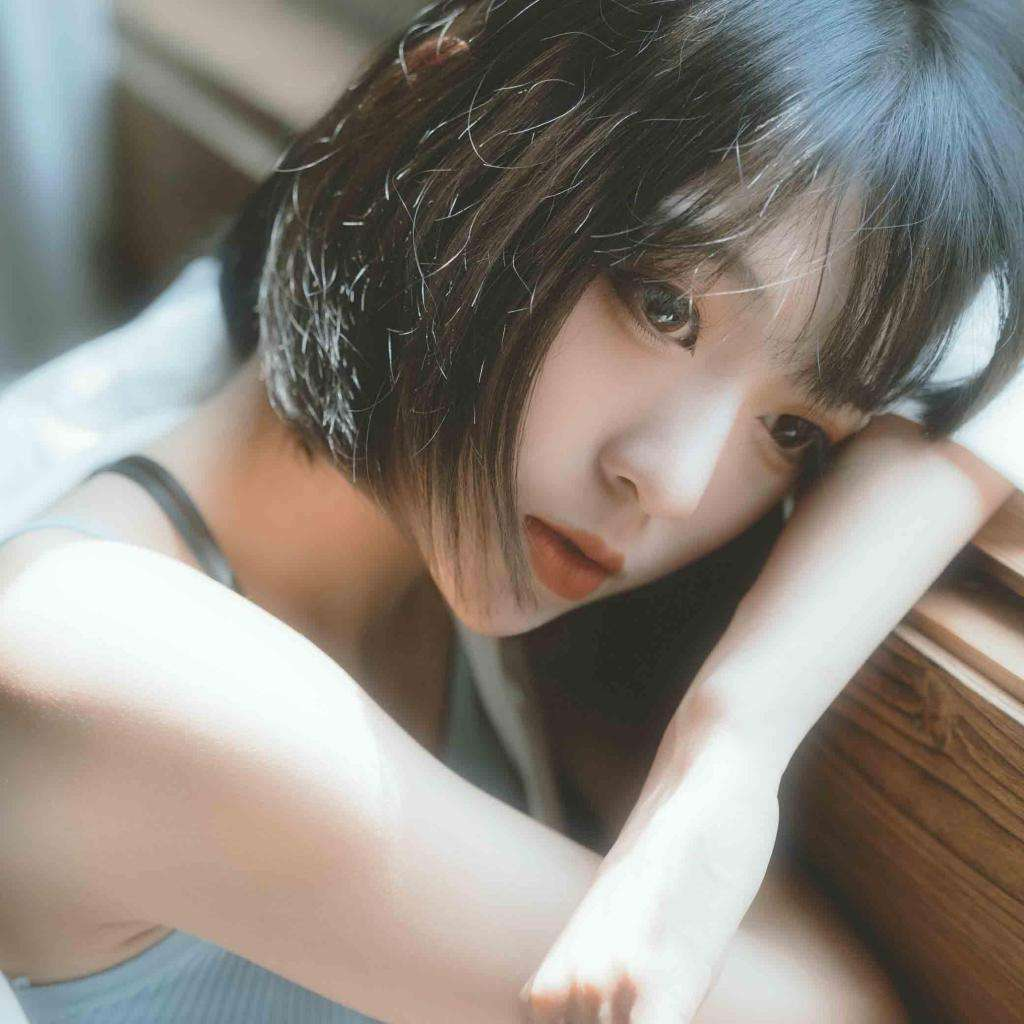person: (244, 30, 970, 1024)
